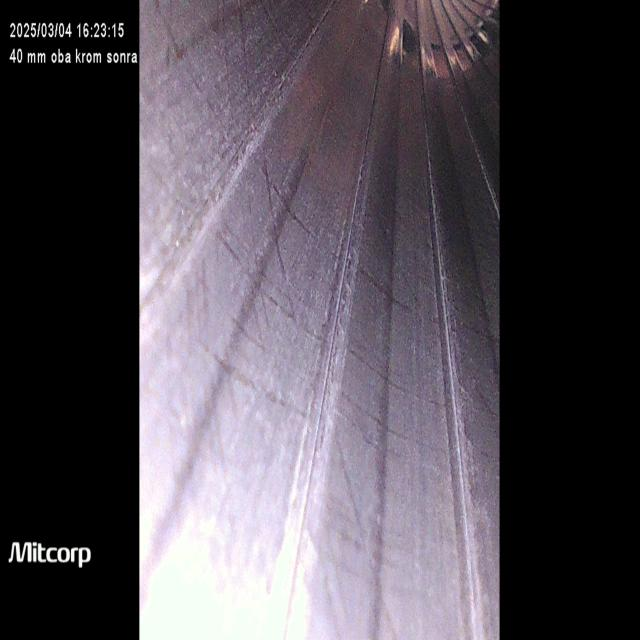hata_8.1: (334, 274, 497, 556), (150, 147, 302, 428)
